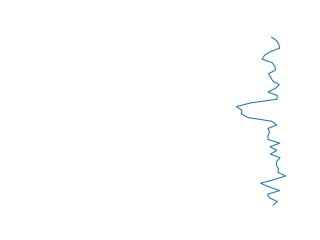interdistributaryEstuary: (230, 36, 294, 206)
